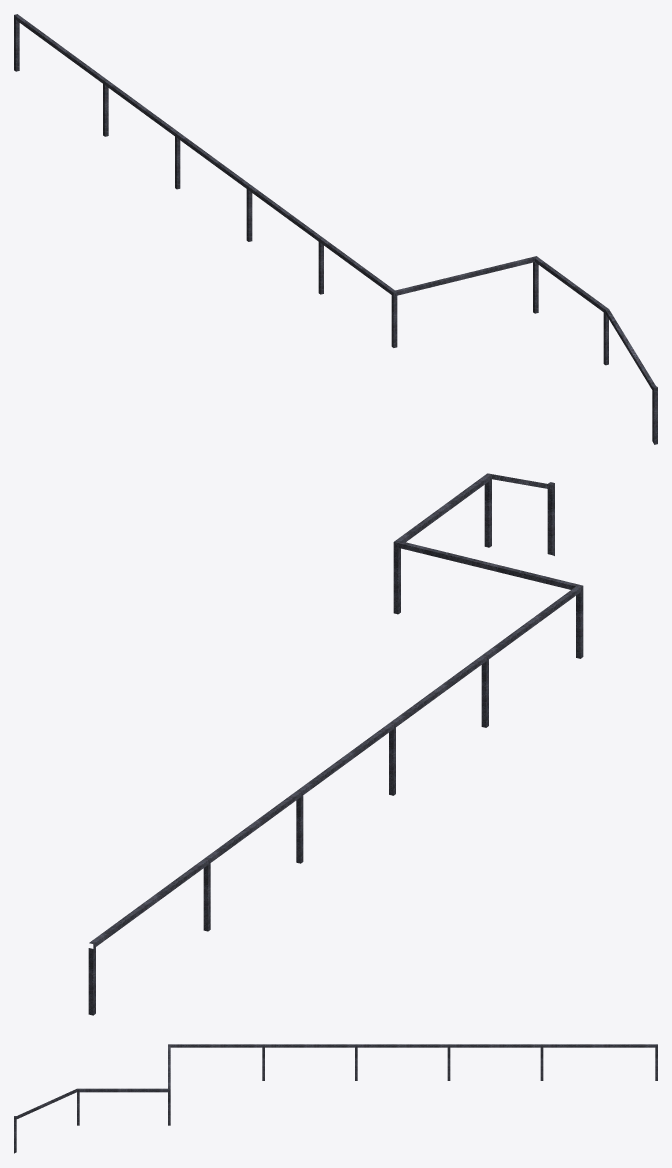
File: M10_Z02_GuardRail01.glb
3 views of the same model, one above another, from view 1: azimuth 30°, elevation 25°; view 2: azimuth 150°, elevation 25°; view 3: azimuth 270°, elevation 25° (orthographic). The views are drawn at different scales.
Visible parts, largest first — view 1: M10_Z02_GUARDRAIL01; view 2: M10_Z02_GUARDRAIL01; view 3: M10_Z02_GUARDRAIL01.
Boxes of the visible parts, box(x1,y1,x2,y2) form: M10_Z02_GUARDRAIL01: box(14, 14, 657, 444); M10_Z02_GUARDRAIL01: box(88, 473, 583, 1015); M10_Z02_GUARDRAIL01: box(14, 1044, 657, 1153).
Bounding box in the file's own units: 2.57 × 1.68 × 15.33.
Materials: 1 (1 with a texture image).
